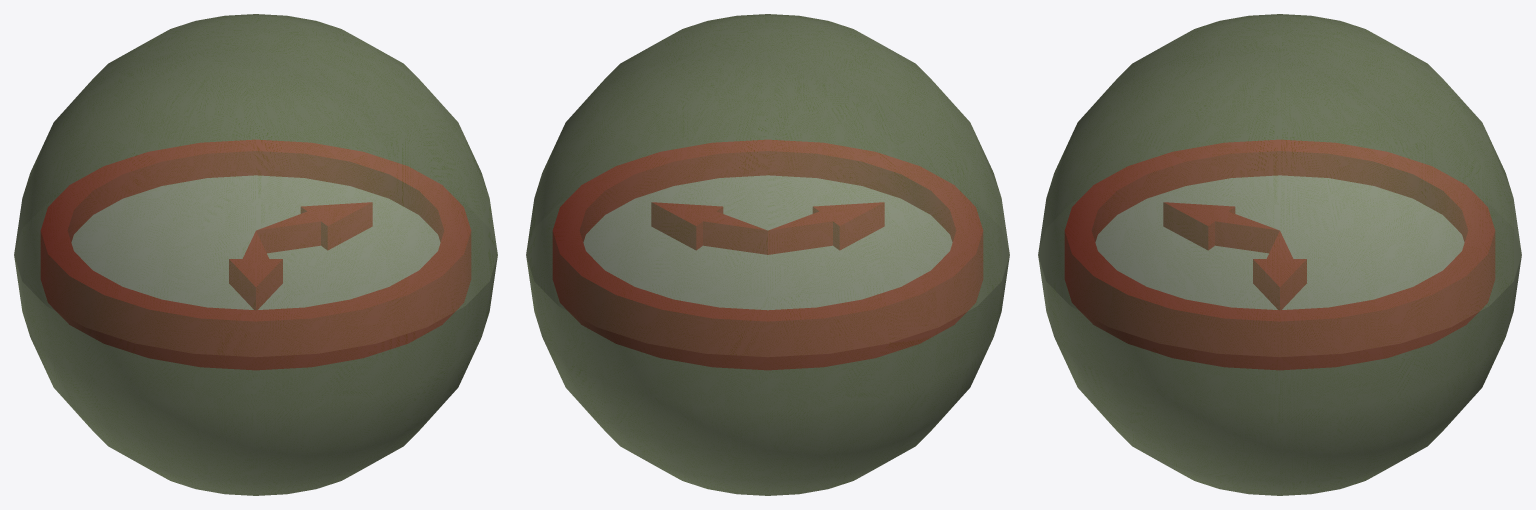
The model's file is TimeTool.dae.
The picture shows the model from 3 angles, left to right: view 1: azimuth 30°, elevation 25°; view 2: azimuth 150°, elevation 25°; view 3: azimuth 270°, elevation 25°; orthographic projection.
Parts seen in each view (by area): view 1: group_4, group_2 (×3), group_3; view 2: group_4, group_2 (×3), group_3; view 3: group_4, group_2 (×3), group_3.
Part boxes in pixels (bbox=[...]): group_4: bbox=[14, 14, 497, 495]; group_2 (×3): bbox=[41, 140, 470, 369]; group_3: bbox=[229, 202, 372, 309]; group_4: bbox=[526, 14, 1009, 495]; group_2 (×3): bbox=[553, 140, 982, 369]; group_3: bbox=[651, 202, 884, 254]; group_4: bbox=[1038, 14, 1521, 495]; group_2 (×3): bbox=[1065, 140, 1494, 369]; group_3: bbox=[1163, 202, 1306, 309].
Size of the model in its own units: 1 by 1 by 1.
